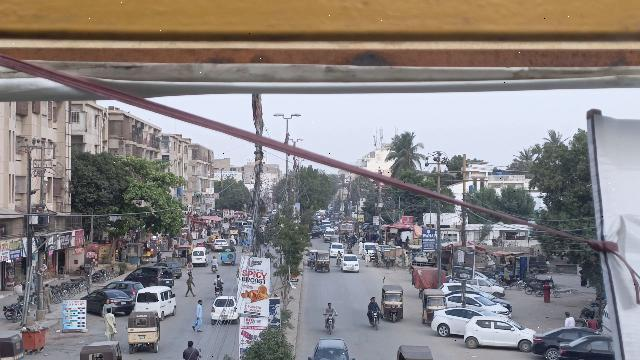Bike: (322, 313, 340, 333), (367, 310, 382, 331), (212, 286, 224, 296)
Car: (462, 315, 535, 350), (446, 293, 514, 317), (429, 307, 485, 335), (79, 289, 133, 315), (307, 336, 355, 360), (123, 266, 175, 287), (210, 295, 239, 325), (104, 281, 143, 297), (156, 261, 182, 277), (341, 254, 360, 272)
Person: (191, 299, 206, 333), (103, 308, 118, 341), (181, 339, 199, 359), (184, 273, 196, 299), (559, 309, 577, 326), (43, 283, 53, 313), (366, 293, 380, 313), (586, 314, 600, 330), (324, 300, 337, 317), (214, 273, 224, 288), (102, 299, 112, 313)
Rickshaw: (125, 311, 163, 353), (379, 284, 406, 324), (419, 287, 445, 325), (78, 341, 122, 360), (393, 344, 438, 360), (315, 251, 331, 274), (219, 245, 237, 265)
Van: (135, 285, 178, 318)
